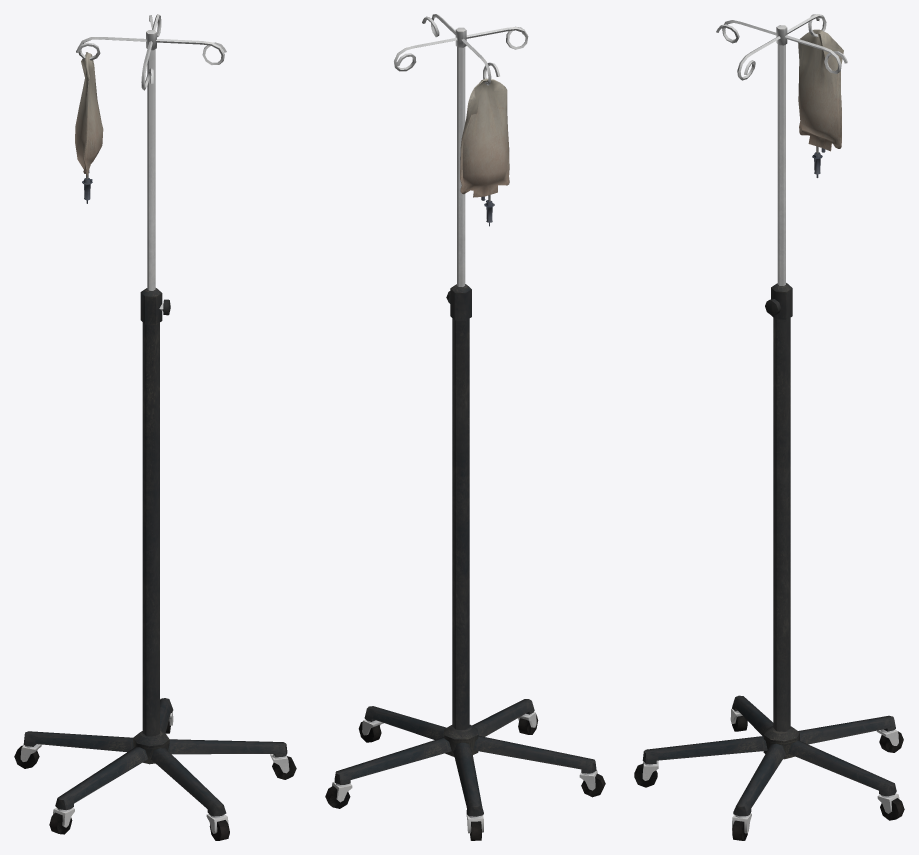
File: Iv_blood.fbx
3 views of the same model, side by side, from view 1: azimuth 30°, elevation 25°; view 2: azimuth 150°, elevation 25°; view 3: azimuth 270°, elevation 25° (orthographic).
Visible parts, largest first — view 1: Iv_blood; view 2: Iv_blood; view 3: Iv_blood.
Part boxes in pixels (box(x1,y1,x2,y2)): Iv_blood: box(14, 14, 296, 840); Iv_blood: box(325, 14, 605, 840); Iv_blood: box(634, 14, 904, 840).
Size of the model in its own units: 77.86 by 230 by 74.16.
1 material, 1 textured.
